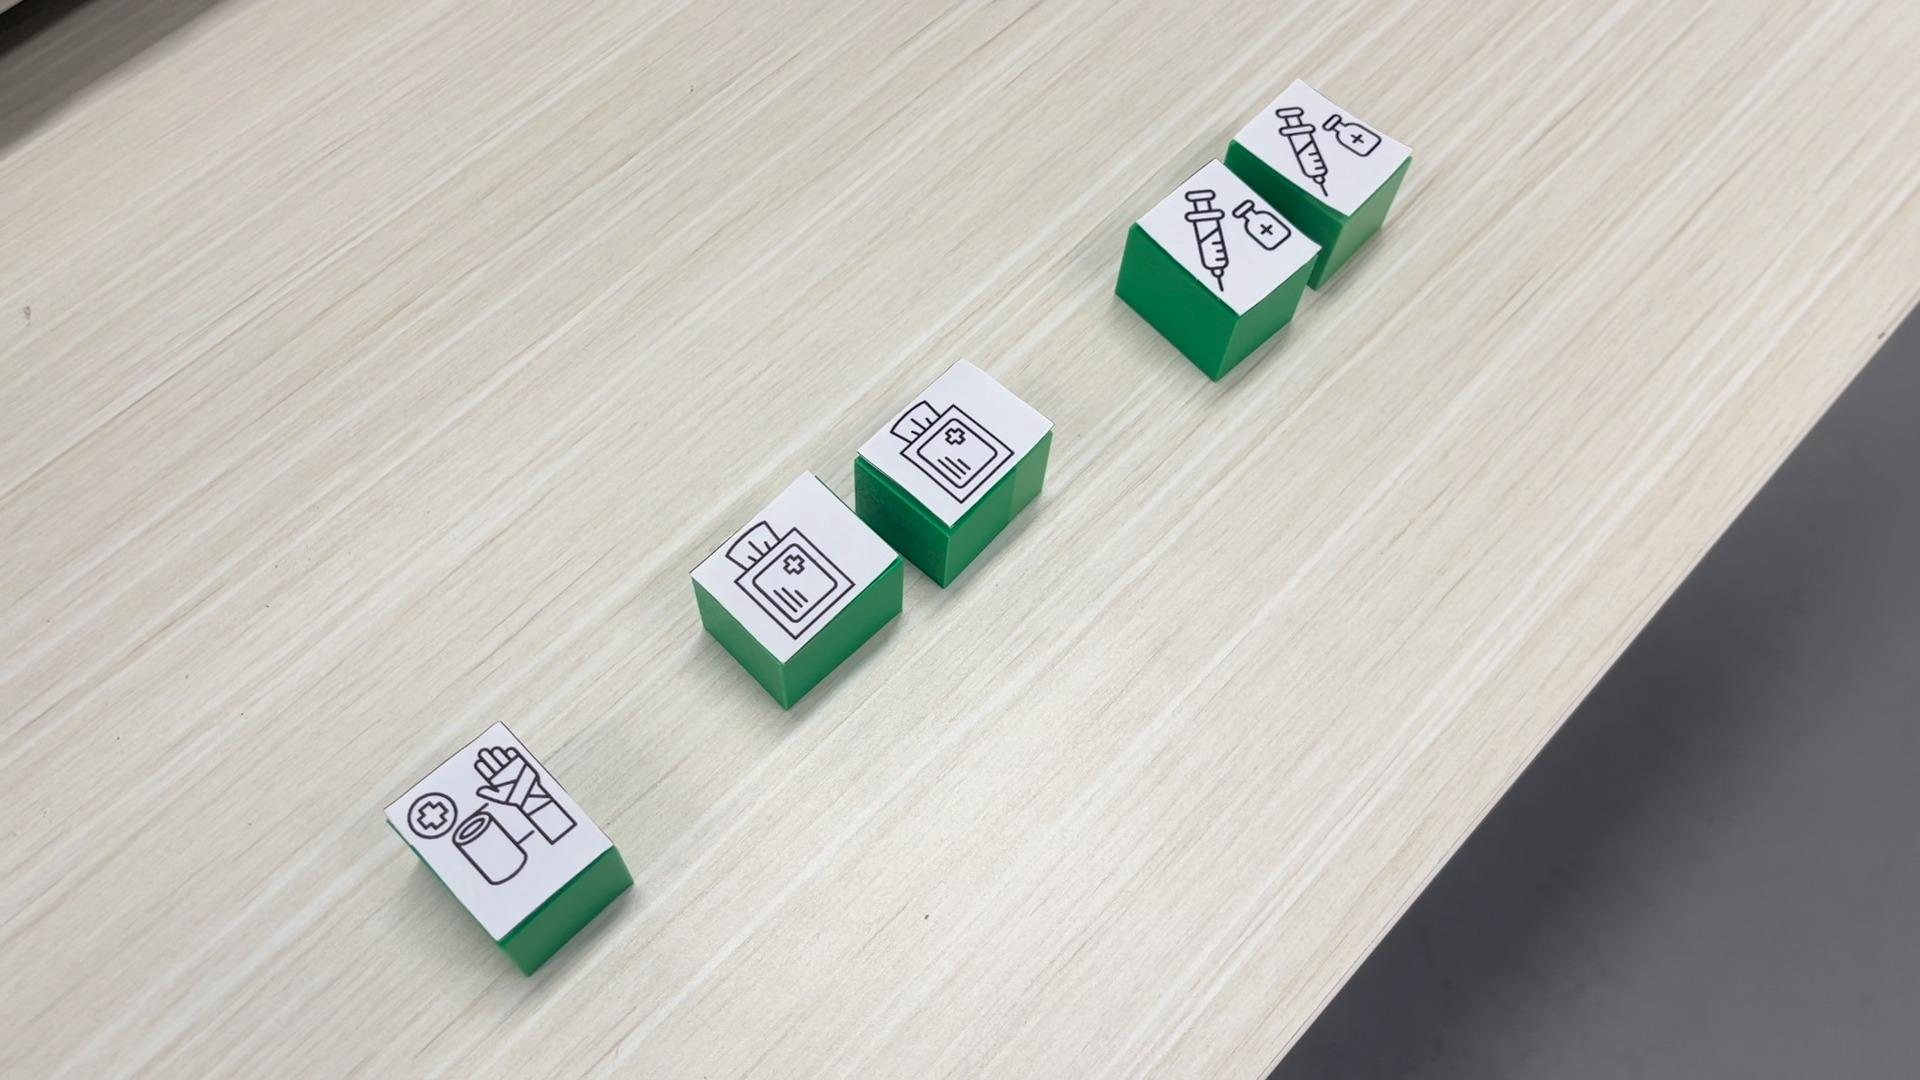Bandages: (377, 720, 632, 976)
Gauze: (688, 469, 903, 713), (855, 355, 1055, 589)
antiseptic cream: (1113, 157, 1325, 382), (1233, 76, 1415, 220)
